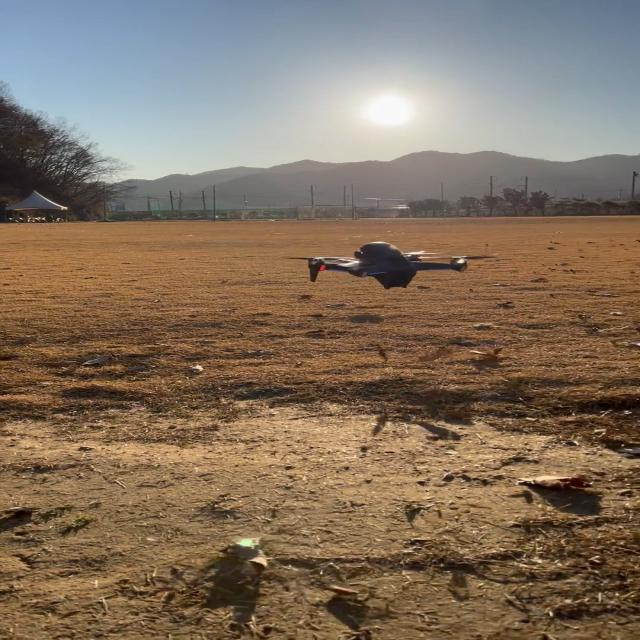Drone: (305, 242, 466, 289)
